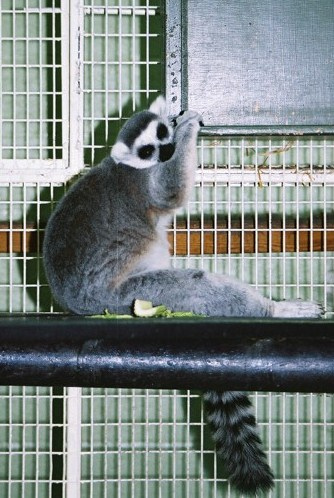cat: (41, 95, 326, 496)
